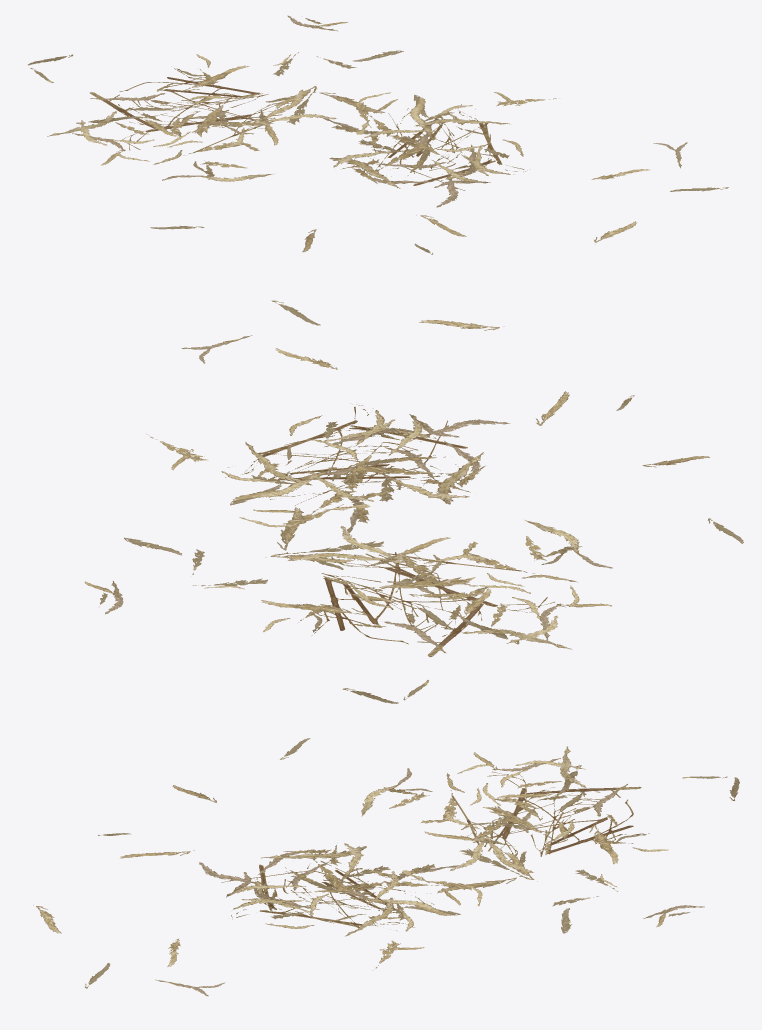
Rendered from DryGrass3.fbx.
The picture shows the model from 3 angles, top to bottom: view 1: azimuth 30°, elevation 25°; view 2: azimuth 150°, elevation 25°; view 3: azimuth 270°, elevation 25°; orthographic projection. The views are drawn at different scales.
Parts seen in each view (by area): view 1: 001_Bc_SM.mo; view 2: 001_Bc_SM.mo; view 3: 001_Bc_SM.mo.
Part boxes in pixels (x1,y1,x2,y2): 001_Bc_SM.mo: [28, 15, 728, 254]; 001_Bc_SM.mo: [84, 300, 743, 703]; 001_Bc_SM.mo: [33, 738, 739, 996].
Bounding box in the file's own units: 244 × 4.39e-05 × 270.
